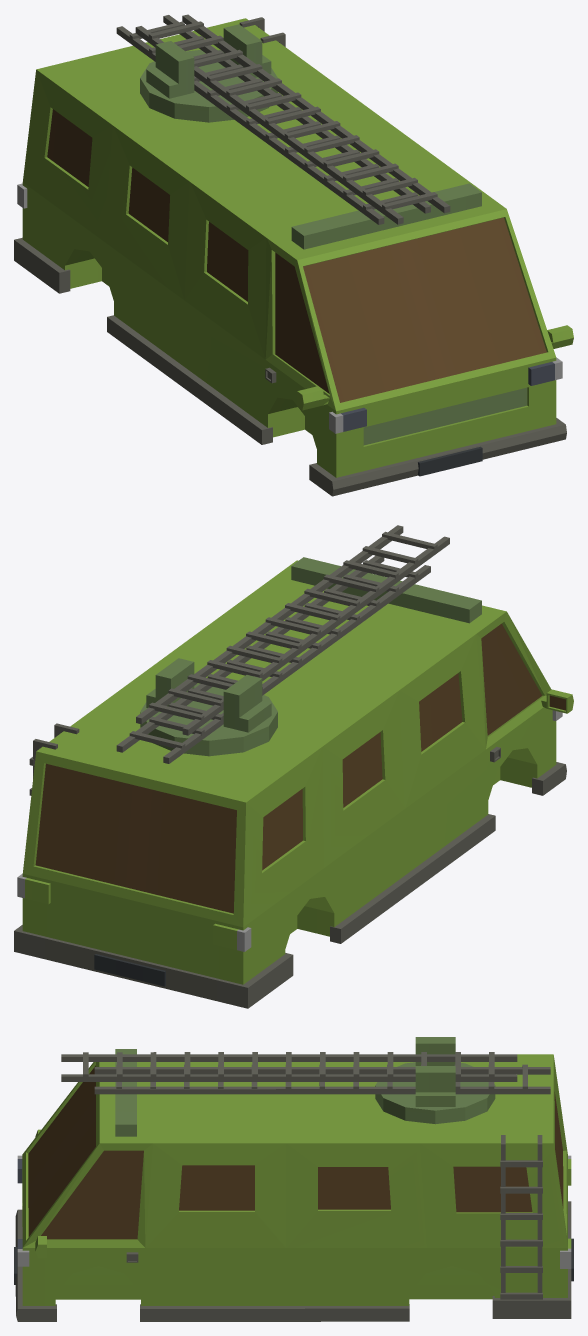
Rendered from Car_15.fbx.
The picture shows the model from 3 angles, top to bottom: view 1: azimuth 30°, elevation 25°; view 2: azimuth 150°, elevation 25°; view 3: azimuth 270°, elevation 25°; orthographic projection. The views are drawn at different scales.
Parts seen in each view (by area): view 1: Car_15; view 2: Car_15; view 3: Car_15.
Boxes of the visible parts, x1,y1,x2,y2 form: Car_15: (14, 14, 573, 496); Car_15: (14, 525, 573, 1008); Car_15: (14, 1037, 573, 1321).
Size of the model in its own units: 2.13 by 1.88 by 4.39.
